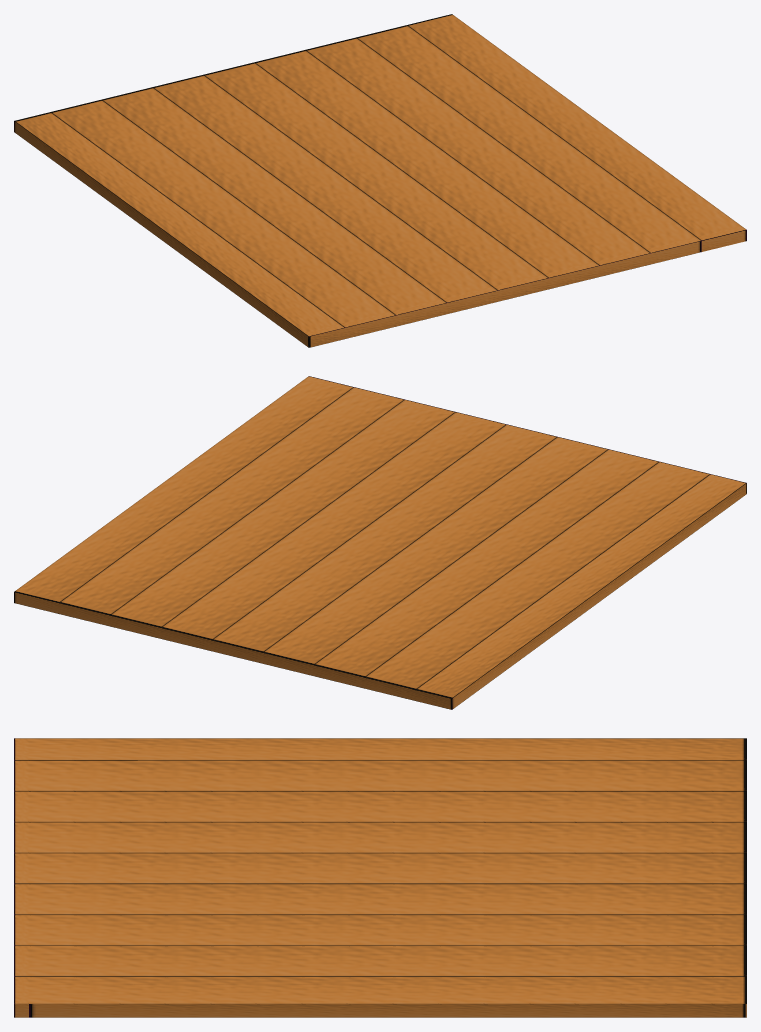
Rendered from FloorShed.fbx.
The picture shows the model from 3 angles, top to bottom: view 1: azimuth 30°, elevation 25°; view 2: azimuth 150°, elevation 25°; view 3: azimuth 270°, elevation 25°; orthographic projection. The views are drawn at different scales.
Parts seen in each view (by area): view 1: ShedFloor; view 2: ShedFloor; view 3: ShedFloor.
Part boxes in pixels (left/top/right/bottom): ShedFloor: left=14, top=14, right=746, bottom=347; ShedFloor: left=14, top=376, right=746, bottom=709; ShedFloor: left=14, top=738, right=746, bottom=1017.
Bounding box in the file's own units: 282 × 6.87 × 329.
